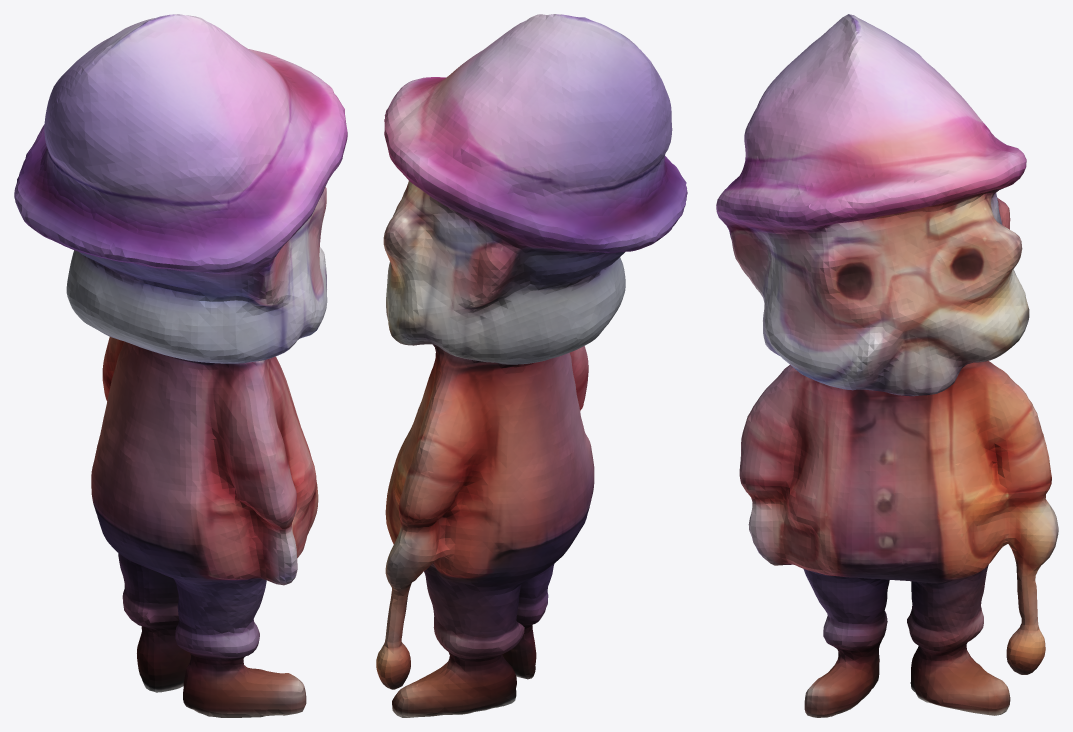
The model's file is old_man.glb.
3 renders of one model, left to right at view 1: azimuth 30°, elevation 25°; view 2: azimuth 150°, elevation 25°; view 3: azimuth 270°, elevation 25°, orthographic. The views are drawn at different scales.
Parts seen in each view (by area): view 1: tmp2n5pcdiw; view 2: tmp2n5pcdiw; view 3: tmp2n5pcdiw.
Boxes of the visible parts, x1,y1,x2,y2 form: tmp2n5pcdiw: (14, 14, 347, 717); tmp2n5pcdiw: (376, 14, 687, 717); tmp2n5pcdiw: (716, 14, 1058, 717).
Bounding box in the file's own units: 0.8297 × 1.97 × 0.9483.
1 material, 1 textured.
